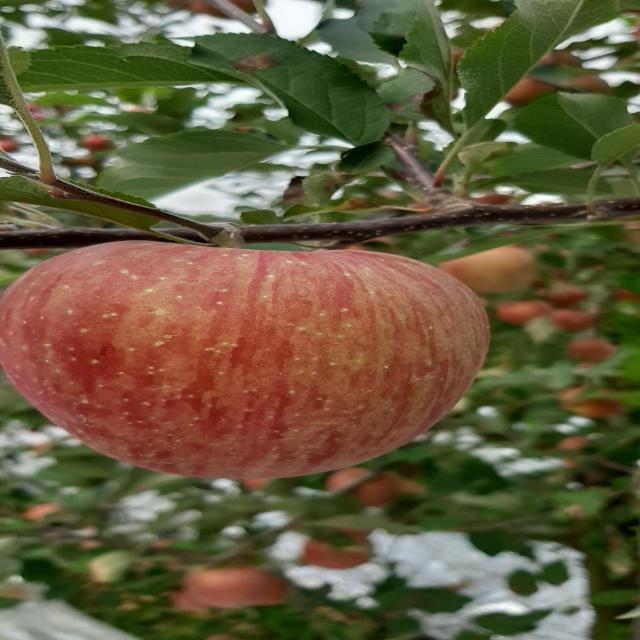fresh: (9, 230, 505, 488)
